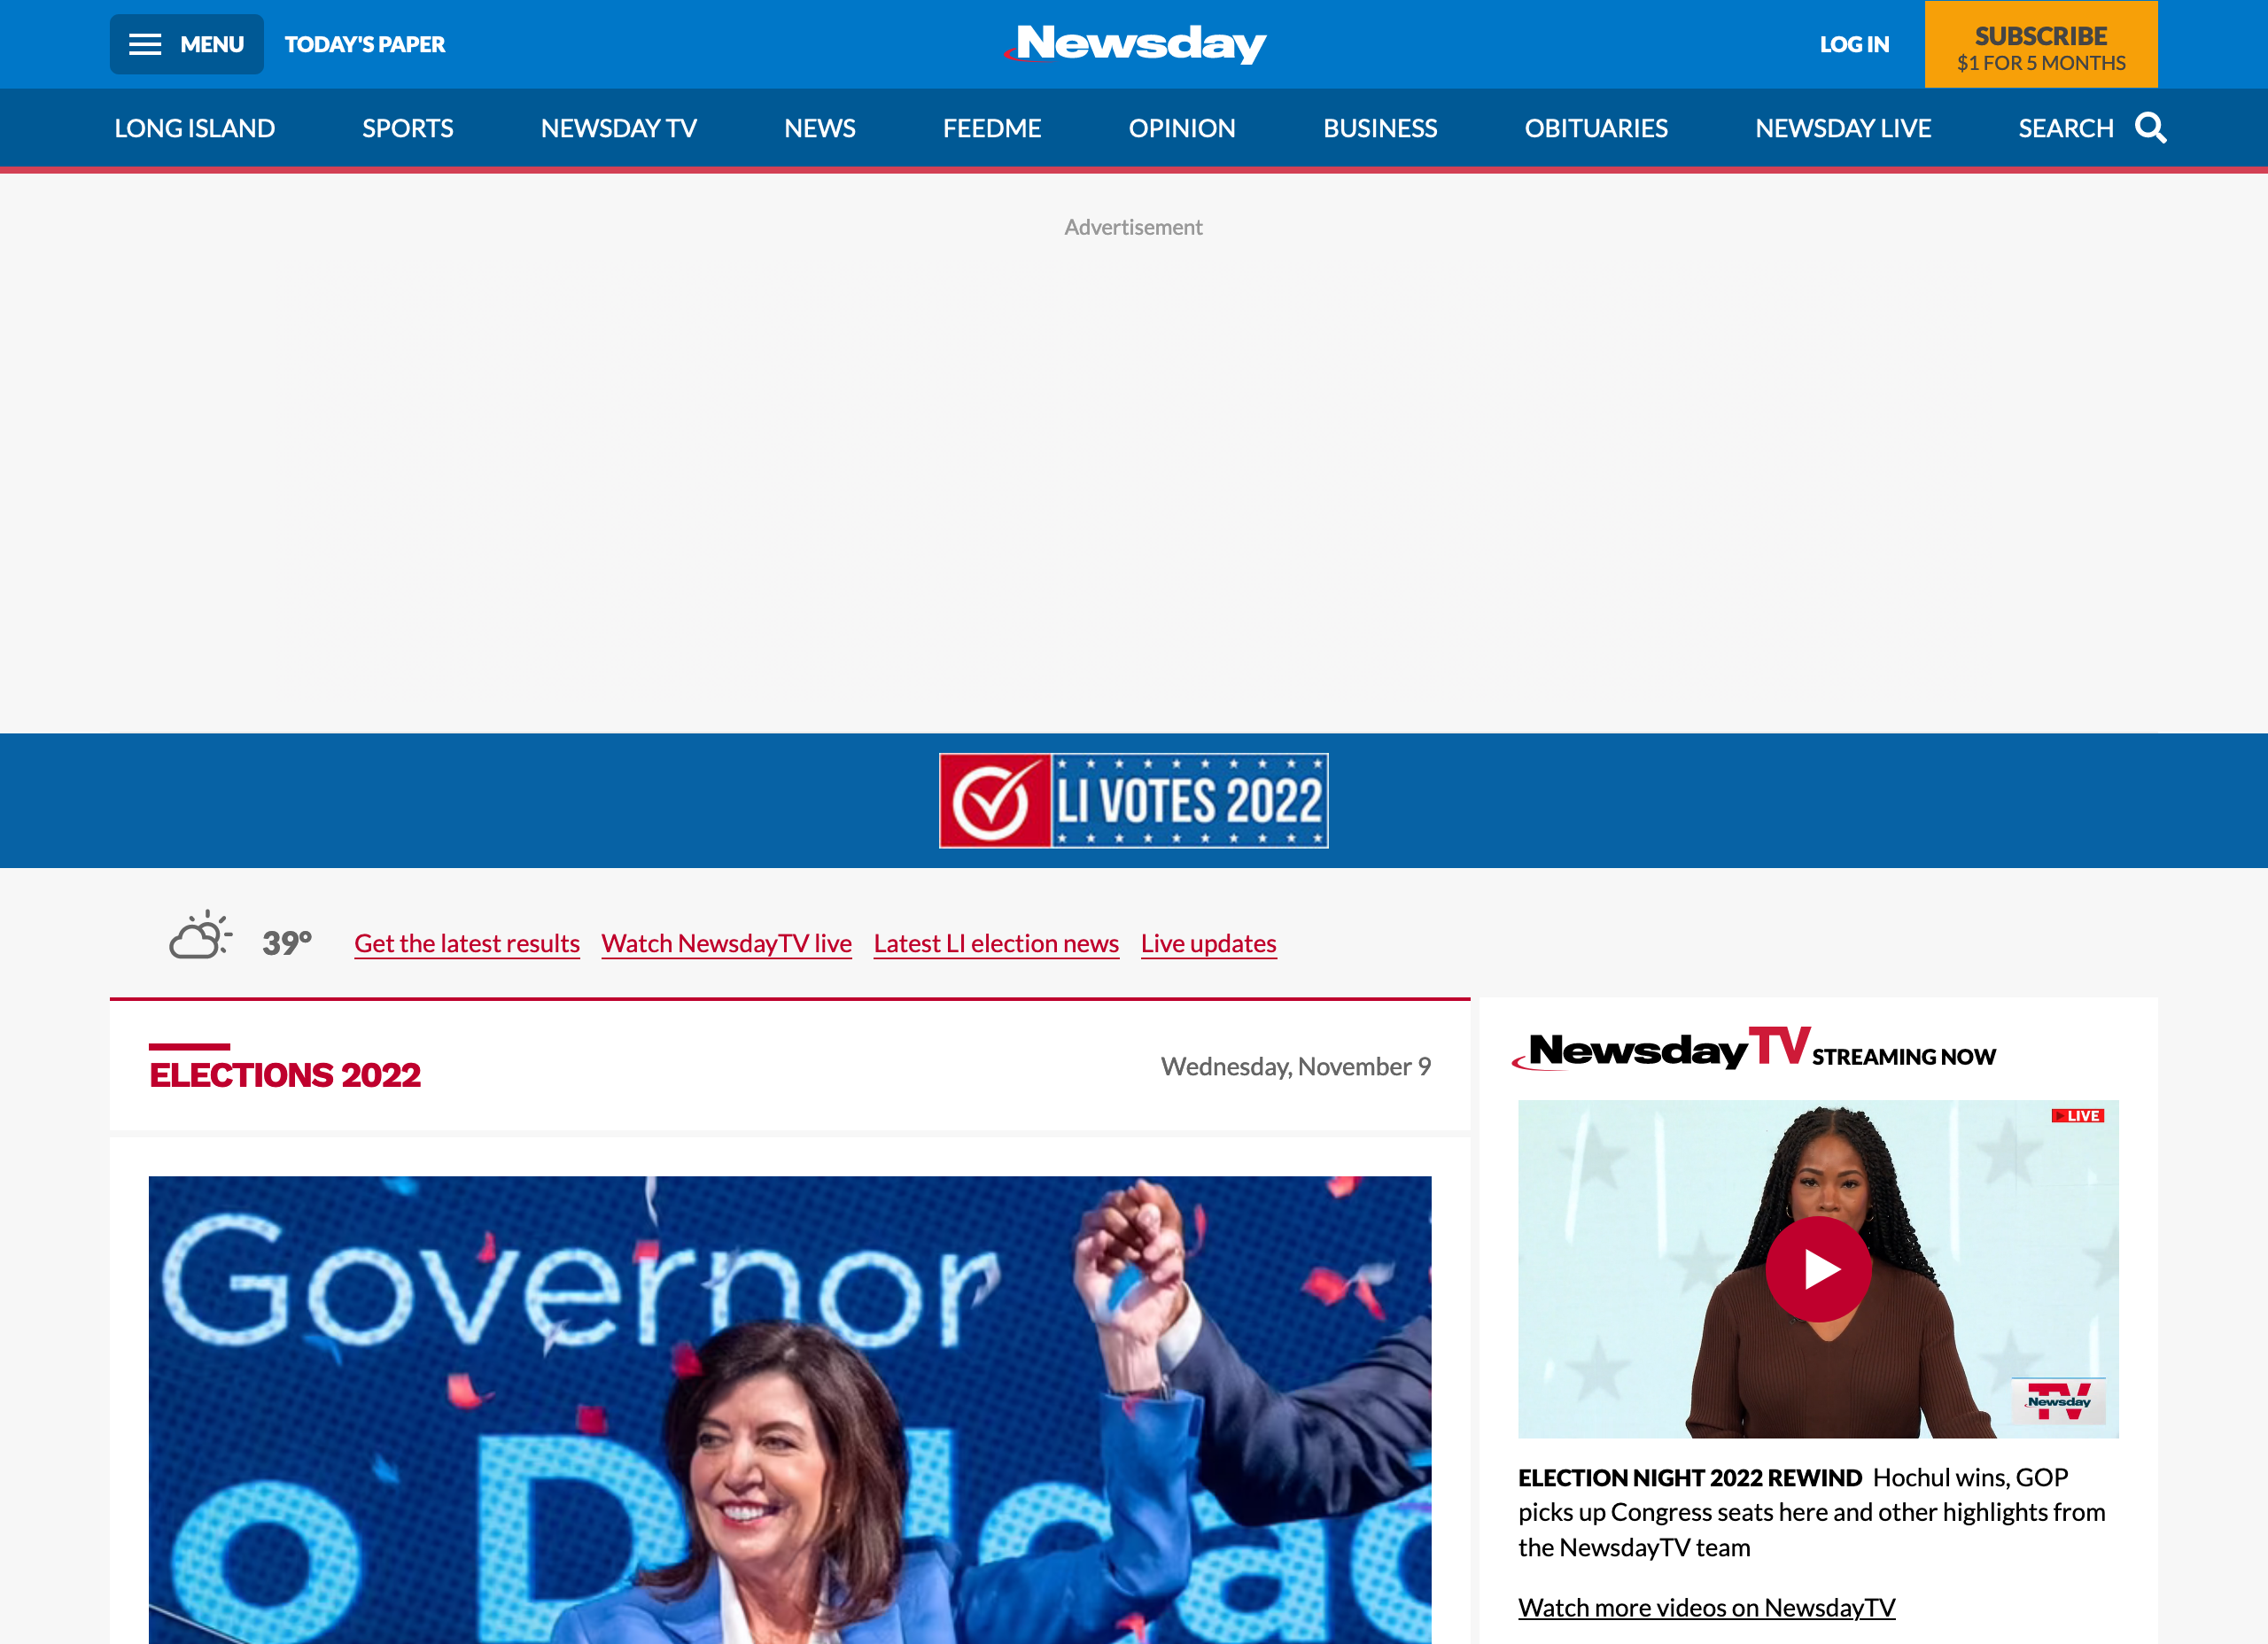Login: (1808, 21, 1909, 69)
